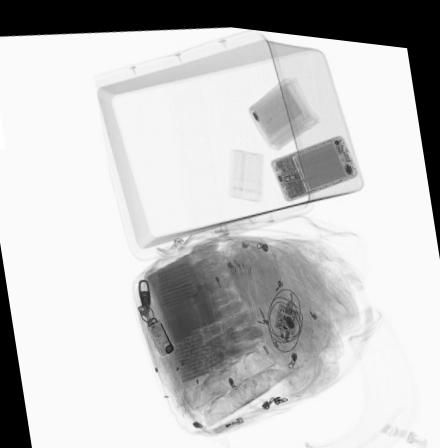Lighter: (210, 410, 244, 430)
